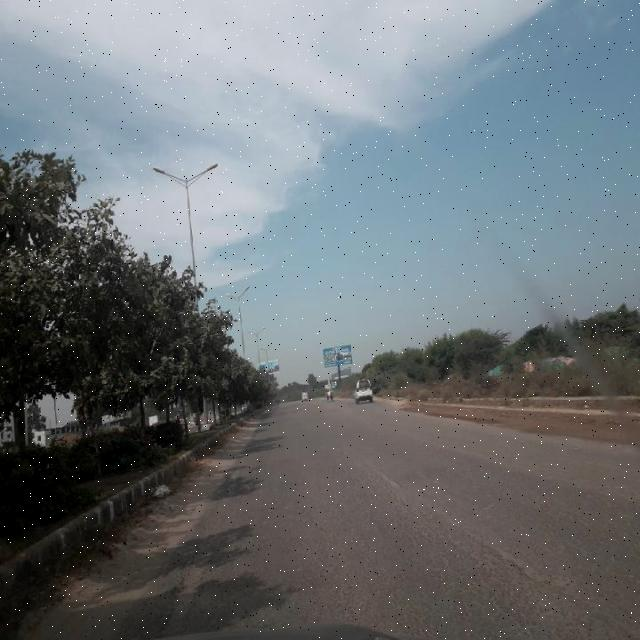D00: (363, 452, 590, 602)
D20: (302, 412, 627, 634), (140, 471, 268, 634)
D40: (150, 508, 217, 634)
